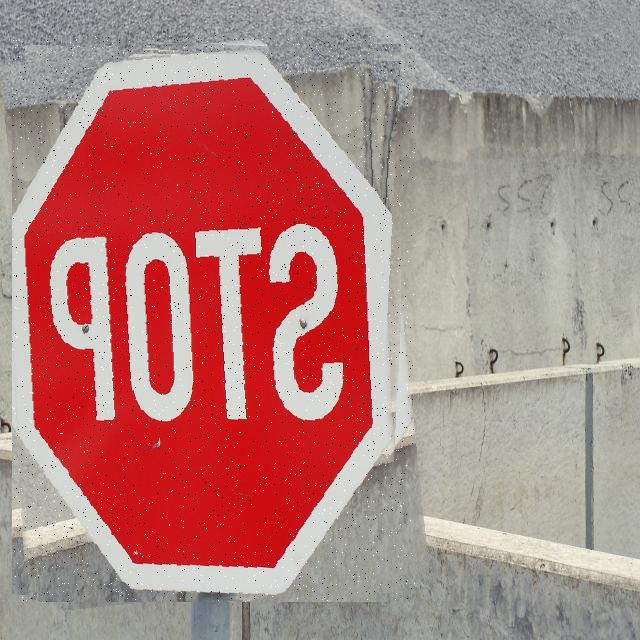stop: (12, 35, 415, 602)
